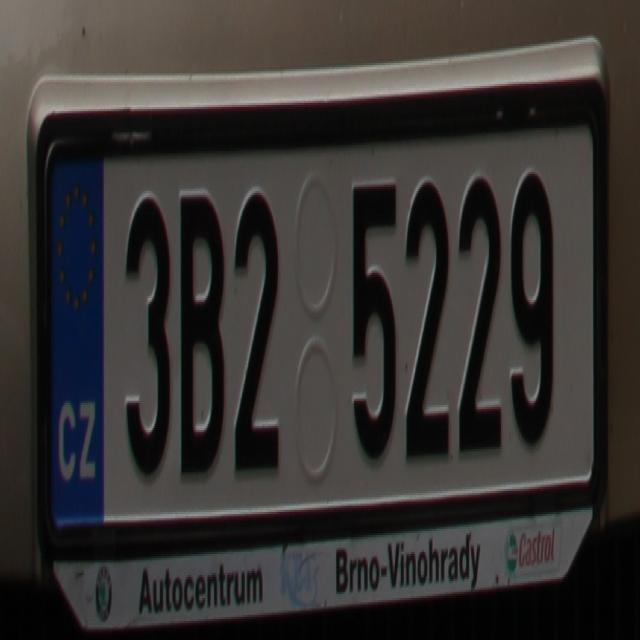2: (232, 193, 284, 474), (403, 182, 450, 456), (458, 170, 503, 456)
3: (124, 191, 171, 478)
5: (346, 177, 399, 456)
9: (506, 172, 552, 441)
B: (177, 184, 226, 478)
